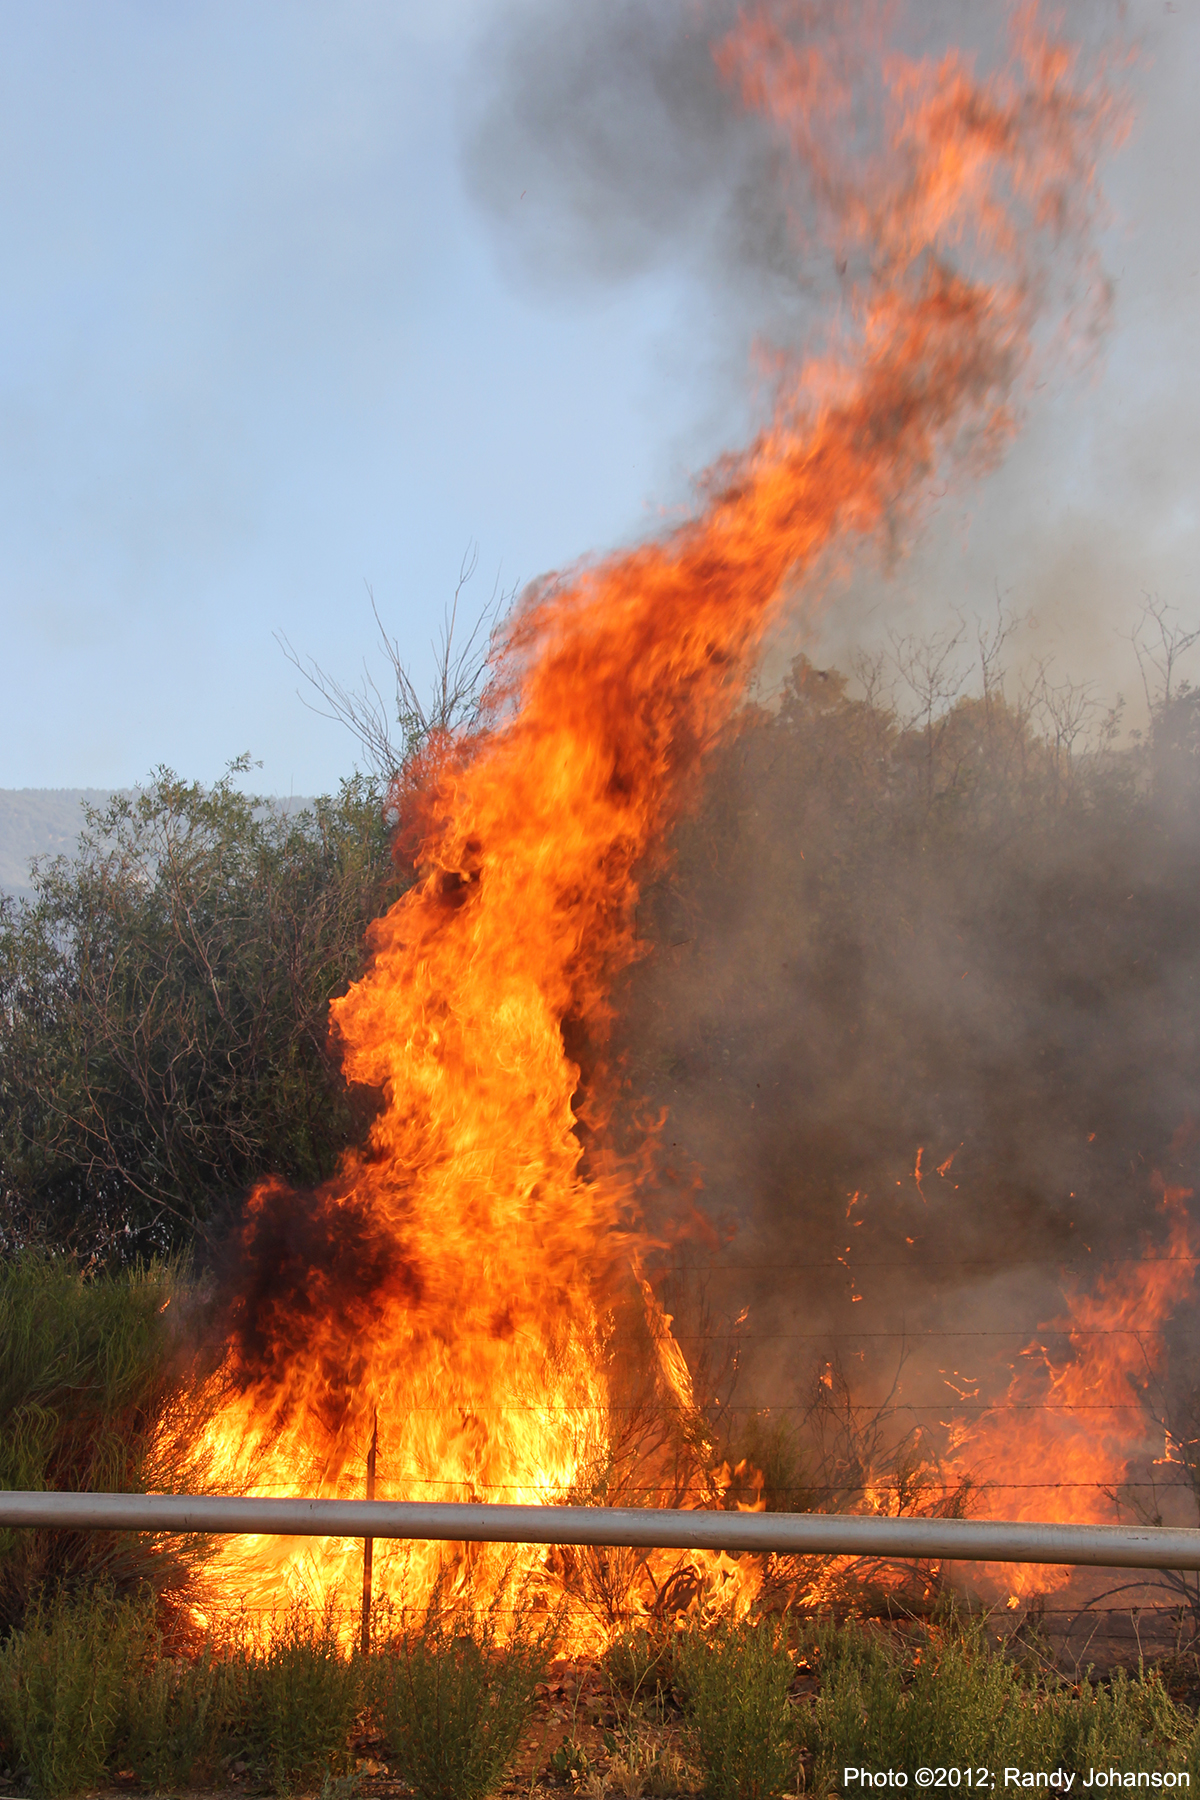fire: (170, 327, 1029, 1643)
